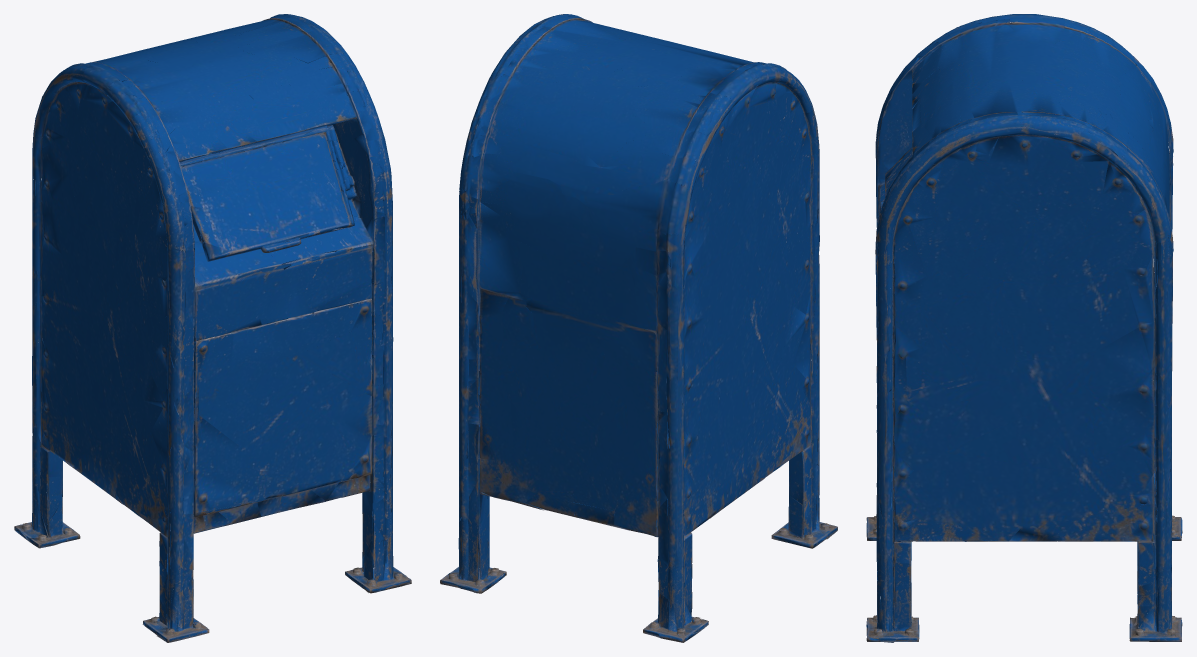
The model's file is mailbox.glb.
The picture shows the model from 3 angles, left to right: view 1: azimuth 30°, elevation 25°; view 2: azimuth 150°, elevation 25°; view 3: azimuth 270°, elevation 25°; orthographic projection.
Visible parts, largest first — view 1: MeshyFit; view 2: MeshyFit; view 3: MeshyFit.
Boxes of the visible parts, x1=… form: MeshyFit: x1=14, y1=14, x2=411, y2=642; MeshyFit: x1=440, y1=14, x2=837, y2=642; MeshyFit: x1=866, y1=14, x2=1182, y2=642.
Bounding box in the file's own units: 0.6574 × 1.3 × 0.7204.
1 material, 1 textured.
